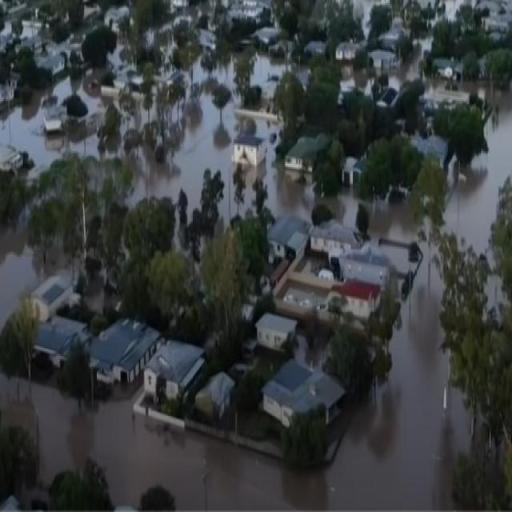flood: (0, 241, 481, 511), (129, 96, 255, 220), (249, 118, 362, 224), (450, 91, 512, 252), (0, 76, 102, 168), (0, 222, 48, 323), (342, 36, 432, 88), (367, 201, 420, 241), (250, 53, 289, 98), (446, 0, 512, 23), (108, 43, 136, 88), (194, 61, 234, 91), (354, 0, 376, 36), (70, 134, 99, 156), (431, 78, 449, 88), (459, 82, 479, 91)
house: (262, 359, 345, 453), (91, 312, 163, 387), (147, 336, 205, 402), (37, 317, 85, 373), (336, 280, 382, 331), (310, 218, 361, 258), (255, 310, 299, 356), (28, 276, 72, 322), (269, 216, 312, 260), (198, 374, 236, 416), (336, 252, 390, 280), (285, 136, 322, 173), (254, 24, 284, 59), (233, 134, 266, 164), (368, 46, 398, 77), (2, 61, 20, 110), (1, 147, 27, 171), (44, 108, 64, 130), (336, 40, 357, 60)
